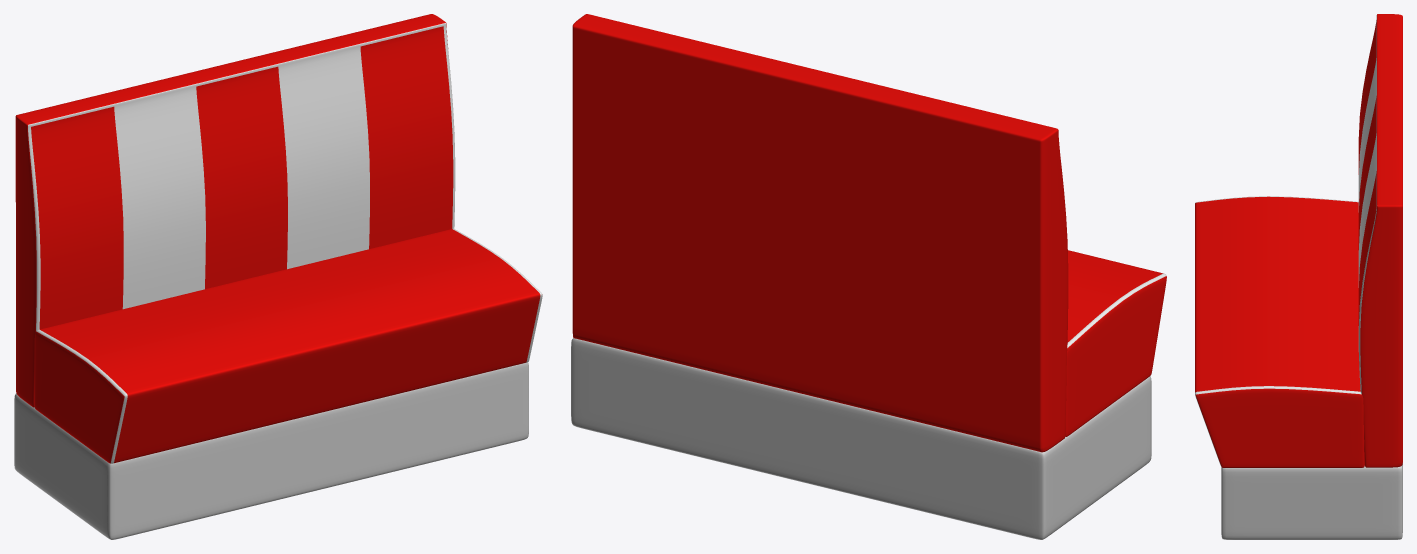
Rendered from DinerSeatMesh.fbx.
The picture shows the model from 3 angles, left to right: view 1: azimuth 30°, elevation 25°; view 2: azimuth 150°, elevation 25°; view 3: azimuth 270°, elevation 25°; orthographic projection. The views are drawn at different scales.
Parts seen in each view (by area): view 1: DinerSeatMesh; view 2: DinerSeatMesh; view 3: DinerSeatMesh.
Boxes of the visible parts, <box> form: DinerSeatMesh: <box>14,14,542,539</box>; DinerSeatMesh: <box>571,14,1166,539</box>; DinerSeatMesh: <box>1195,14,1402,539</box>.
Bounding box in the file's own units: 12278 × 9958 × 5593.
